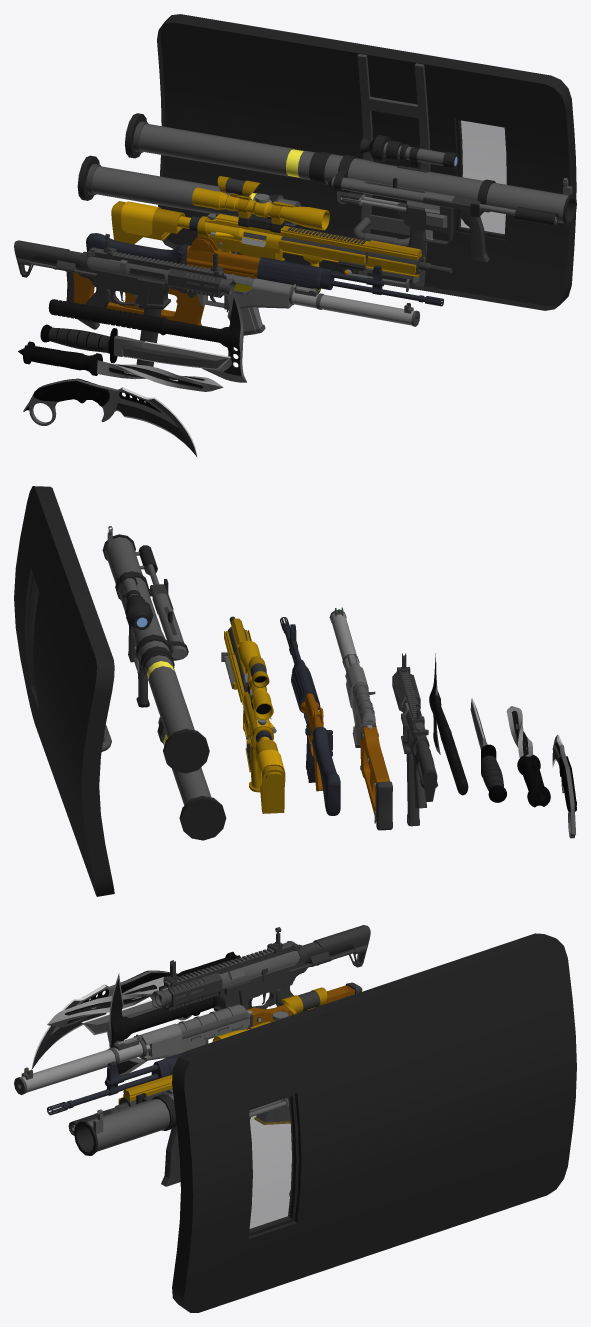
3 views of the same model, one above another, from view 1: azimuth 30°, elevation 25°; view 2: azimuth 150°, elevation 25°; view 3: azimuth 270°, elevation 25° (orthographic). The views are drawn at different scales.
Parts seen in each view (by area): view 1: Riot_Shield, MK_153_SMAW, HK_G28, ARP-9, VSS_Vintorez, Korean_K2, MK_153_SMAW_Rocket, SOG_HAWK, M48_Falcon, Kabar_Tanto, M48_Cyclone; view 2: Riot_Shield, MK_153_SMAW, HK_G28, VSS_Vintorez, Korean_K2, ARP-9, MK_153_SMAW_Rocket, M48_Cyclone, SOG_HAWK, Kabar_Tanto, M48_Falcon; view 3: Riot_Shield, ARP-9, VSS_Vintorez, MK_153_SMAW, SOG_HAWK, HK_G28, M48_Cyclone, Korean_K2, M48_Falcon, Kabar_Tanto.
Part boxes in pixels (x1,y1,x2,y2): Riot_Shield: (157, 14, 576, 310); MK_153_SMAW: (125, 113, 576, 262); HK_G28: (111, 176, 452, 292); ARP-9: (14, 233, 236, 366); VSS_Vintorez: (66, 271, 419, 335); Korean_K2: (86, 233, 443, 331); MK_153_SMAW_Rocket: (77, 155, 300, 225); SOG_HAWK: (48, 288, 246, 382); M48_Falcon: (23, 378, 197, 457); Kabar_Tanto: (40, 324, 231, 369); M48_Cyclone: (18, 341, 223, 391); Riot_Shield: (14, 486, 114, 896); MK_153_SMAW: (102, 526, 209, 773); HK_G28: (221, 616, 285, 813); VSS_Vintorez: (329, 607, 392, 830); Korean_K2: (280, 617, 340, 815); ARP-9: (392, 653, 437, 826); MK_153_SMAW_Rocket: (157, 717, 226, 840); M48_Cyclone: (506, 706, 550, 807); SOG_HAWK: (429, 653, 468, 795); Kabar_Tanto: (470, 698, 506, 802); M48_Falcon: (552, 734, 576, 838); Riot_Shield: (172, 933, 576, 1312); ARP-9: (150, 925, 370, 1011); VSS_Vintorez: (14, 982, 362, 1094); MK_153_SMAW: (68, 1088, 288, 1186); SOG_HAWK: (105, 973, 294, 1080); HK_G28: (95, 987, 327, 1124); M48_Cyclone: (47, 951, 240, 1027); Korean_K2: (47, 1009, 291, 1115); M48_Falcon: (31, 970, 191, 1069); Kabar_Tanto: (81, 999, 200, 1035).
Bounding box in the file's own units: 6749 × 2700 × 5349.
